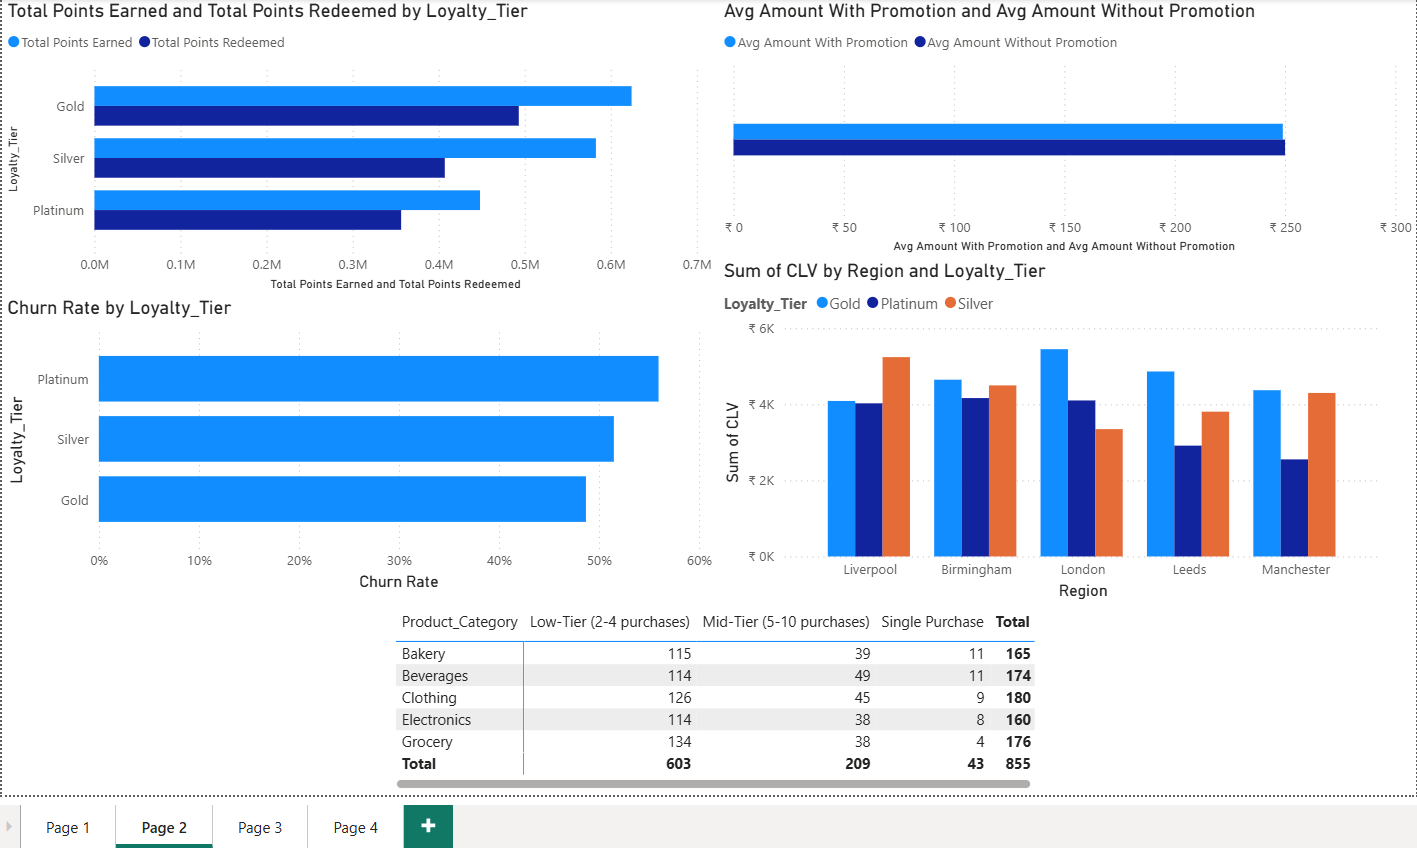

Layout of this report page (visuals, bound fields, positions):
{"tool":"powerbi","page":{"name":"Page 2","canvas":[1280,720],"ordinal":1},"visuals":[{"type":"pivotTable","fields":{"Rows":["Customer_Transactions.Product_Category"],"Columns":["Customer_Demographics.Customer_Loyalty_Tier"],"Values":["CountNonNull(Customer_Transactions.Transaction_ID)"]},"box":[351.2,547.7,587.2,172.1],"z":0},{"type":"clusteredBarChart","fields":{"Category":["Loyalty_Program.Loyalty_Tier"],"Y":["Loyalty_Program.Total Points Earned","Loyalty_Program.Total Points Redeemed"]},"box":[0,0,647.7,268.6],"z":1000},{"type":"clusteredBarChart","fields":{"Y":["Customer_Transactions.Avg Amount With Promotion","Customer_Transactions.Avg Amount Without Promotion"]},"box":[647.7,0,632.6,234.9],"z":2000},{"type":"clusteredBarChart","fields":{"Category":["Loyalty_Program.Loyalty_Tier"],"Y":["Customer_Demographics.Churn Rate"]},"box":[0,268.6,647.7,270.9],"z":3000},{"type":"clusteredColumnChart","fields":{"Category":["Customer_Demographics.Region"],"Y":["Sum(Customer_Demographics.CLV)"],"Series":["Loyalty_Program.Loyalty_Tier"]},"box":[647.7,234.9,604.7,312.8],"z":4000},{"type":"slicer","fields":{"Values":["Store_Locations.Store_Type"]},"box":[951.7,0,328.3,176.7],"z":5000},{"type":"slicer","fields":{"Values":["Loyalty_Program.Loyalty_Tier"]},"box":[640,0,311.7,176.7],"z":6000},{"type":"slicer","fields":{"Values":["Customer_Demographics.Income_Group"]},"box":[331.1,0,308.9,176.7],"z":7000},{"type":"slicer","fields":{"Values":["Customer_Demographics.Region"]},"box":[25,0,306.1,176.7],"z":8000}]}

Visuals, with their boxes on the page's 1280x720 design canvas (x1, y1, x2, y2). These are canvas units, not pixel positions in the 1417x848 screenshot, which may show the page scaled, cropped or inside an application window:
pivotTable - Customer_Transactions.Product_Category x Customer_Demographics.Customer_Loyalty_Tier: rect(351, 548, 938, 720)
clusteredBarChart - Loyalty_Program.Loyalty_Tier x Loyalty_Program.Total Points Earned: rect(0, 0, 648, 269)
clusteredBarChart - Customer_Transactions.Avg Amount With Promotion x Customer_Transactions.Avg Amount Without Promotion: rect(648, 0, 1280, 235)
clusteredBarChart - Loyalty_Program.Loyalty_Tier x Customer_Demographics.Churn Rate: rect(0, 269, 648, 540)
clusteredColumnChart - Customer_Demographics.Region x Sum(Customer_Demographics.CLV): rect(648, 235, 1252, 548)
slicer - Store_Locations.Store_Type: rect(952, 0, 1280, 177)
slicer - Loyalty_Program.Loyalty_Tier: rect(640, 0, 952, 177)
slicer - Customer_Demographics.Income_Group: rect(331, 0, 640, 177)
slicer - Customer_Demographics.Region: rect(25, 0, 331, 177)
